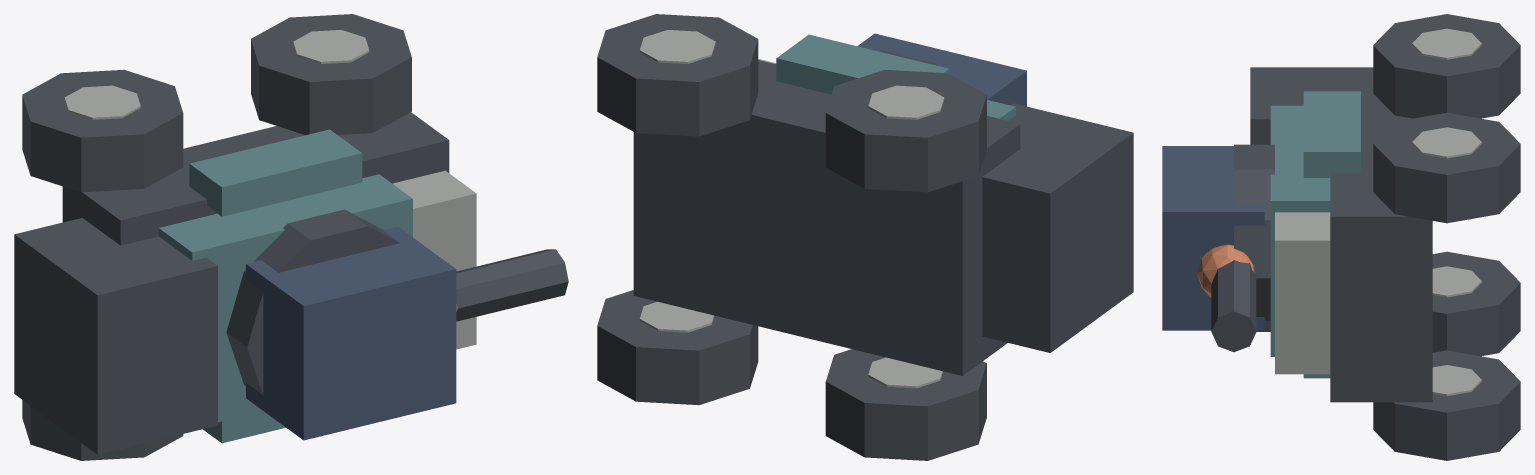
File: patrol_grunt.glb
3 views of the same model, side by side, from view 1: azimuth 30°, elevation 25°; view 2: azimuth 150°, elevation 25°; view 3: azimuth 270°, elevation 25° (orthographic). The views are drawn at different scales.
Parts seen in each view (by area): view 1: battery_cage, sensor_head, wheel_rear_left, wheel_front_left, chassis, upper_frame, side_panel_left, head_turntable, front_plate, short_machine_gun, wheel_rear_right, hub_rear_left (+2 smaller); view 2: chassis, battery_cage, wheel_front_left, wheel_rear_left, wheel_rear_right, wheel_front_right, side_panel_left, sensor_head, hub_rear_left, hub_front_left, hub_front_right, hub_rear_right; view 3: chassis, wheel_front_left, wheel_rear_left, sensor_head, wheel_front_right, front_plate, wheel_rear_right, upper_frame, side_panel_left, head_turntable, battery_cage, short_machine_gun (+5 smaller).
Part boxes in pixels (left/top/right/bottom): battery_cage: left=14, top=217, right=217, bottom=454; sensor_head: left=246, top=227, right=456, bottom=440; wheel_rear_left: left=22, top=69, right=183, bottom=192; wheel_front_left: left=251, top=14, right=411, bottom=135; chassis: left=62, top=112, right=449, bottom=245; upper_frame: left=158, top=174, right=412, bottom=422; side_panel_left: left=189, top=129, right=362, bottom=216; head_turntable: left=226, top=209, right=399, bottom=394; front_plate: left=392, top=170, right=476, bottom=349; short_machine_gun: left=456, top=249, right=568, bottom=321; wheel_rear_right: left=22, top=400, right=183, bottom=460; hub_rear_left: left=64, top=85, right=140, bottom=119; chassis: left=633, top=60, right=1020, bottom=375; battery_cage: left=982, top=103, right=1133, bottom=352; wheel_front_left: left=597, top=14, right=758, bottom=136; wheel_rear_left: left=825, top=69, right=986, bottom=192; wheel_rear_right: left=825, top=349, right=986, bottom=460; wheel_front_right: left=597, top=290, right=758, bottom=405; side_panel_left: left=776, top=34, right=949, bottom=94; sensor_head: left=857, top=33, right=1026, bottom=106; hub_rear_left: left=868, top=85, right=944, bottom=119; hub_front_left: left=639, top=30, right=715, bottom=63; hub_front_right: left=639, top=301, right=714, bottom=332; hub_rear_right: left=868, top=357, right=943, bottom=388; chassis: left=1330, top=74, right=1432, bottom=402; wheel_front_left: left=1373, top=112, right=1520, bottom=223; wheel_rear_left: left=1373, top=14, right=1520, bottom=118; sensor_head: left=1162, top=146, right=1264, bottom=330; wheel_front_right: left=1373, top=350, right=1520, bottom=460; front_plate: left=1275, top=212, right=1330, bottom=374; wheel_rear_right: left=1432, top=251, right=1520, bottom=356; upper_frame: left=1270, top=105, right=1330, bottom=356; side_panel_left: left=1303, top=91, right=1360, bottom=177; head_turntable: left=1234, top=144, right=1274, bottom=331; battery_cage: left=1250, top=67, right=1373, bottom=144; short_machine_gun: left=1211, top=260, right=1256, bottom=351.
Bounding box in the file's own units: 1.12 × 0.78 × 0.875.
